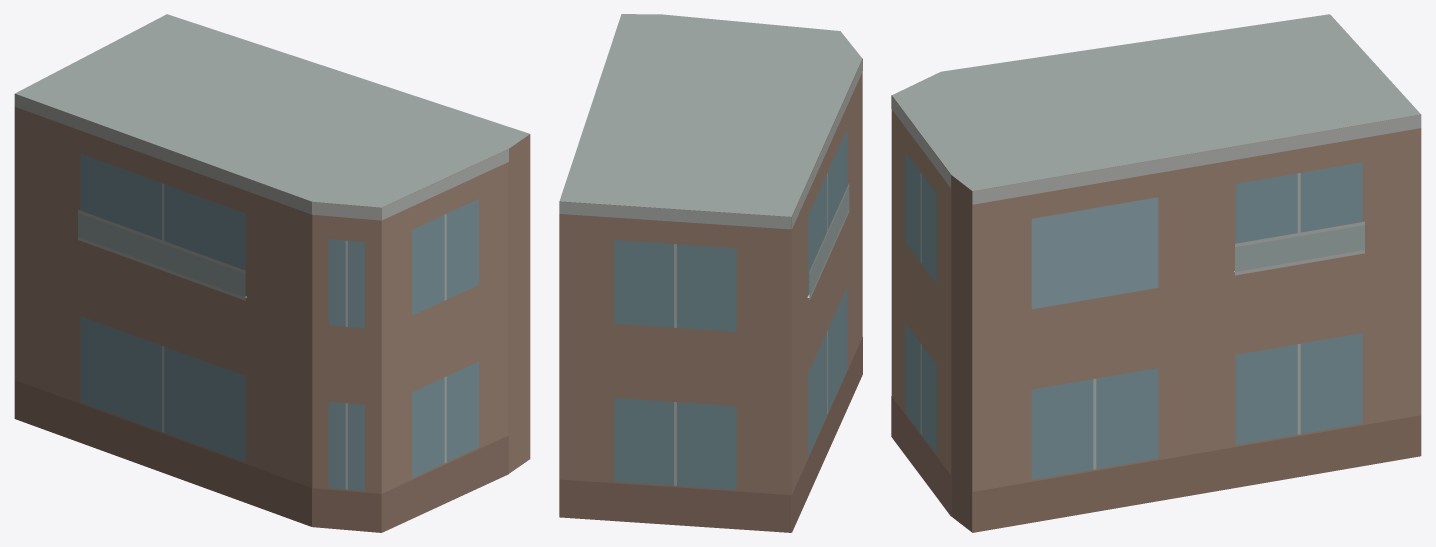
Rendered from survey-upis-32486681.glb.
3 renders of one model, left to right at view 1: azimuth 30°, elevation 25°; view 2: azimuth 150°, elevation 25°; view 3: azimuth 270°, elevation 25°, orthographic. The views are drawn at different scales.
Visible parts, largest first — view 1: survey-upis-32486681.tmp; view 2: survey-upis-32486681.tmp; view 3: survey-upis-32486681.tmp.
Part boxes in pixels (box(x1,y1,x2,y2)): survey-upis-32486681.tmp: box(14, 14, 530, 532); survey-upis-32486681.tmp: box(559, 14, 862, 532); survey-upis-32486681.tmp: box(891, 14, 1421, 532).
Bounding box in the file's own units: 6.79 × 6.1 × 8.58.
